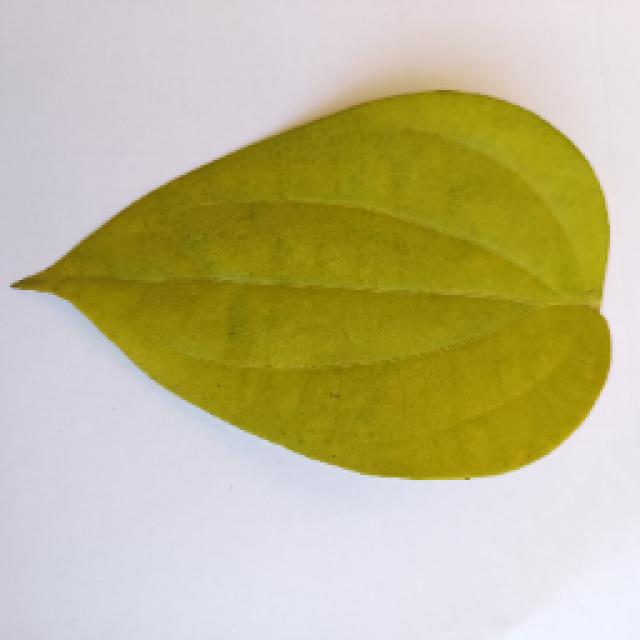slow-decline: (2, 82, 610, 510)
